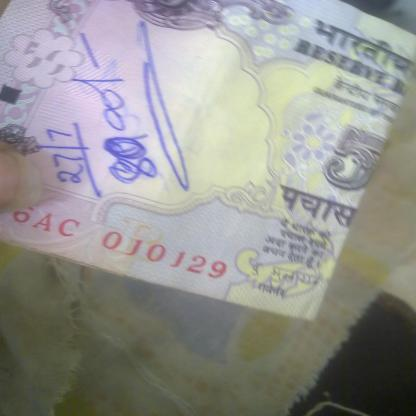Old50Front: (0, 0, 415, 320)
